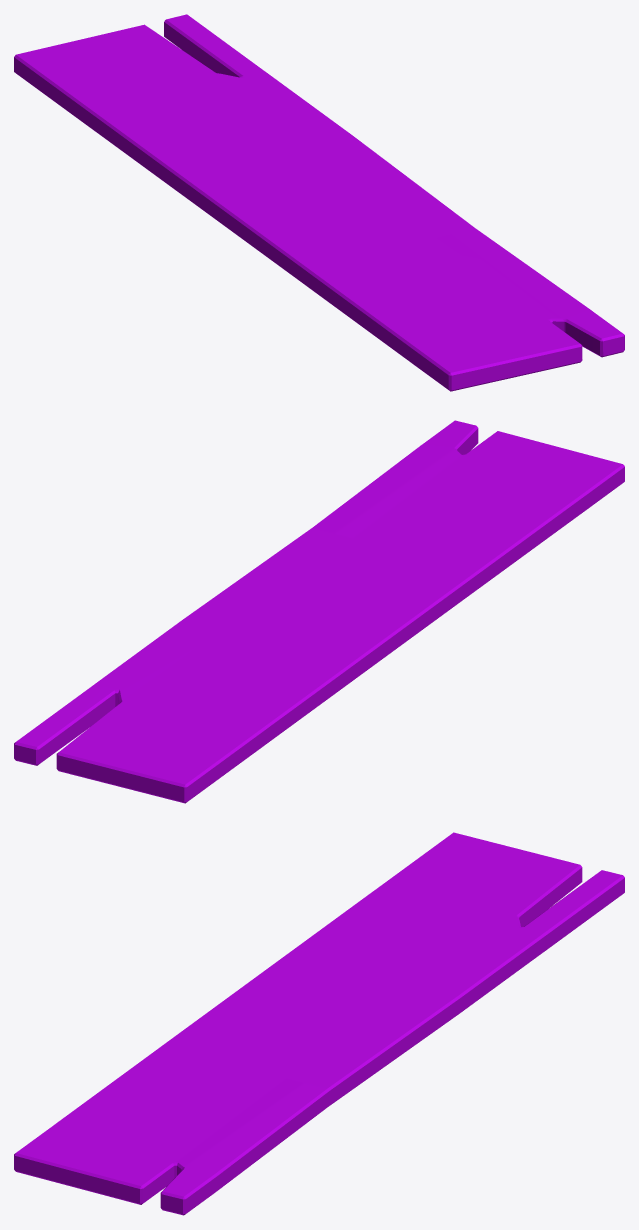
File: Board_01.fbx
3 views of the same model, one above another, from view 1: azimuth 30°, elevation 25°; view 2: azimuth 150°, elevation 25°; view 3: azimuth 330°, elevation 25° (orthographic).
Parts seen in each view (by area): view 1: Board_01; view 2: Board_01; view 3: Board_01.
Boxes of the visible parts, left/top/right/bottom form: Board_01: left=14, top=14, right=624, bottom=391; Board_01: left=14, top=420, right=624, bottom=803; Board_01: left=14, top=832, right=624, bottom=1215.
Size of the model in its own units: 83.73 by 8.94 by 368.
